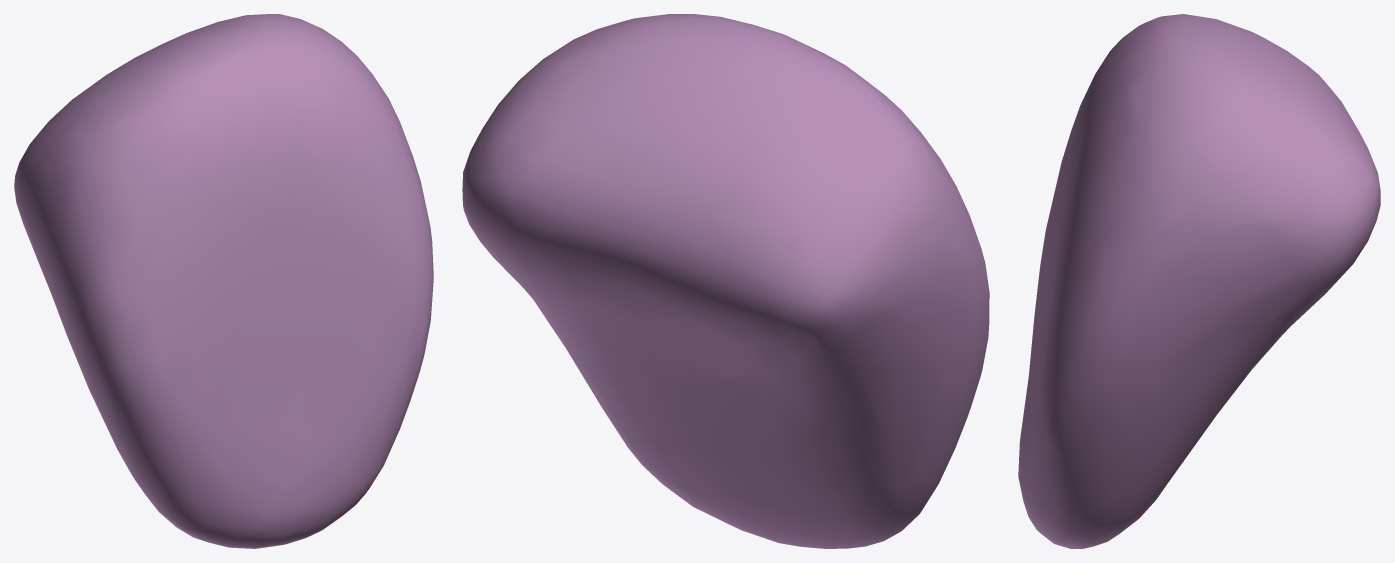
3 views of the same model, side by side, from view 1: azimuth 30°, elevation 25°; view 2: azimuth 150°, elevation 25°; view 3: azimuth 270°, elevation 25° (orthographic). The views are drawn at different scales.
Parts seen in each view (by area): view 1: 蚓结节; view 2: 蚓结节; view 3: 蚓结节.
Boxes of the visible parts, box(x1,y1,x2,y2) form: 蚓结节: box(14, 14, 433, 548); 蚓结节: box(462, 14, 989, 548); 蚓结节: box(1018, 14, 1380, 548).
Size of the model in its own units: 0.0223 by 0.028 by 0.0185.
